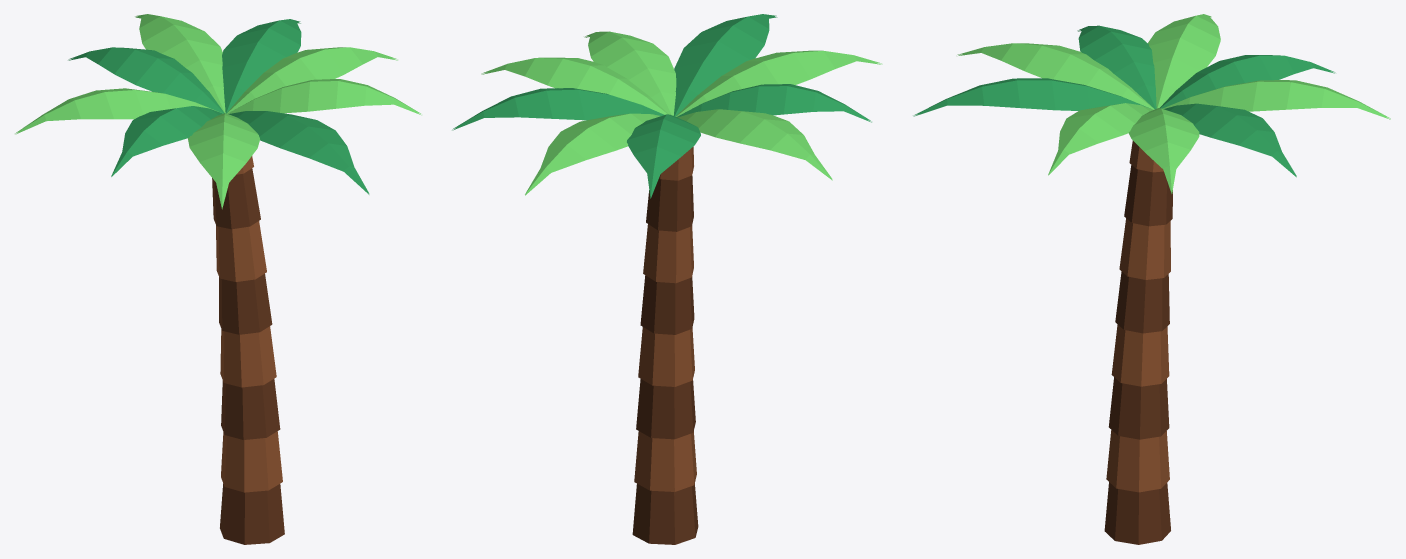
The model's file is Cycad1.fbx.
The picture shows the model from 3 angles, left to right: view 1: azimuth 30°, elevation 25°; view 2: azimuth 150°, elevation 25°; view 3: azimuth 270°, elevation 25°; orthographic projection. The views are drawn at different scales.
Visible parts, largest first — view 1: Cycad1; view 2: Cycad1; view 3: Cycad1.
Boxes of the visible parts, <box> form: Cycad1: <box>15,14,421,544</box>; Cycad1: <box>452,14,882,544</box>; Cycad1: <box>913,14,1390,544</box>.
Size of the model in its own units: 3.87 by 4.57 by 4.44.
1 material, 1 textured.
